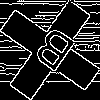B: (25, 25, 78, 82)
